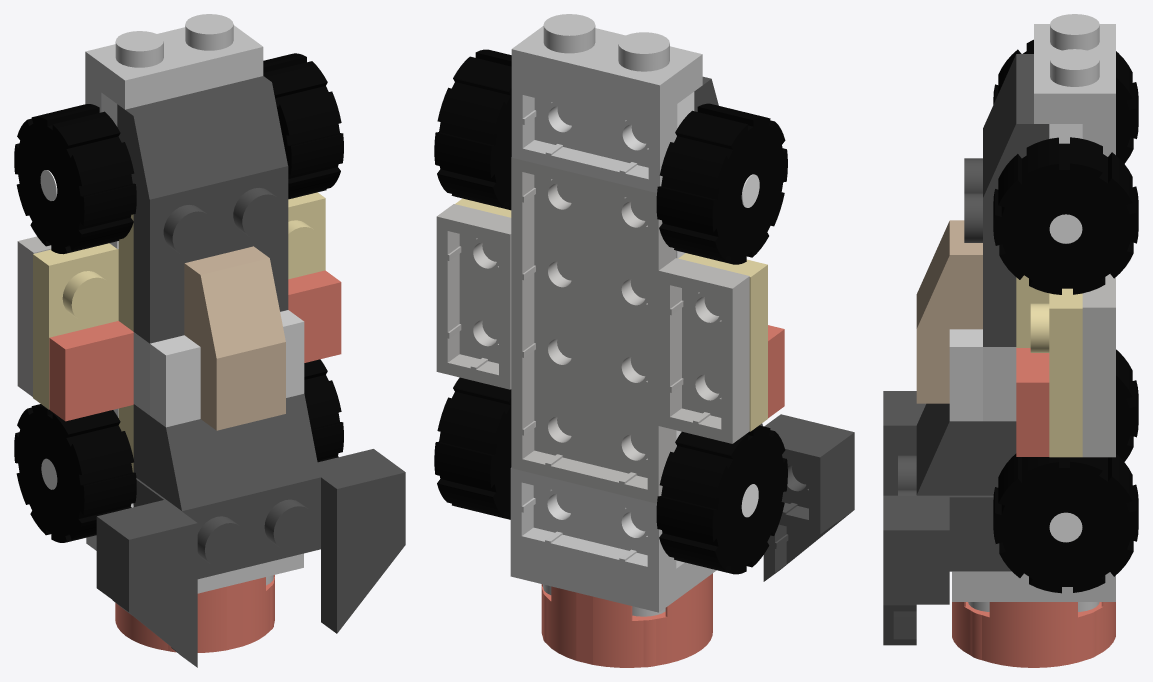
File: batimovil.glb
The picture shows the model from 3 angles, left to right: view 1: azimuth 30°, elevation 25°; view 2: azimuth 150°, elevation 25°; view 3: azimuth 270°, elevation 25°; orthographic projection. The views are drawn at different scales.
Parts seen in each view (by area): view 1: batimovil; view 2: batimovil; view 3: batimovil.
Boxes of the visible parts, box(x1,y1,x2,y2) form: batimovil: box(14, 14, 405, 667); batimovil: box(434, 14, 854, 667); batimovil: box(883, 14, 1138, 667).
Bounding box in the file's own units: 3.19 × 6.28 × 2.46.
